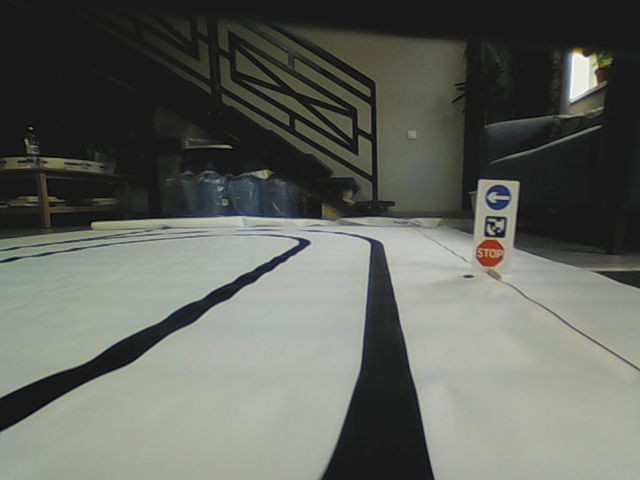Stop: (475, 238, 504, 267)
